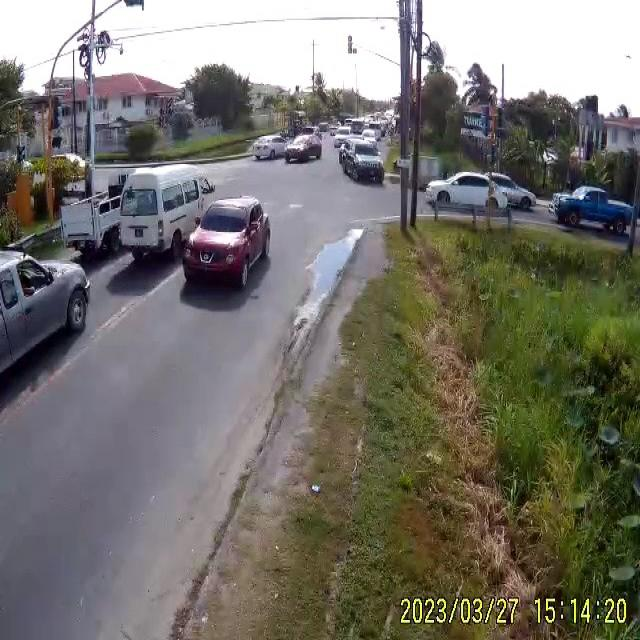car: (118, 168, 210, 261), (181, 195, 272, 288), (426, 172, 539, 213), (550, 188, 638, 237), (340, 140, 384, 183), (486, 176, 536, 211), (284, 134, 321, 166), (250, 136, 288, 162)
truck: (61, 192, 123, 260)
